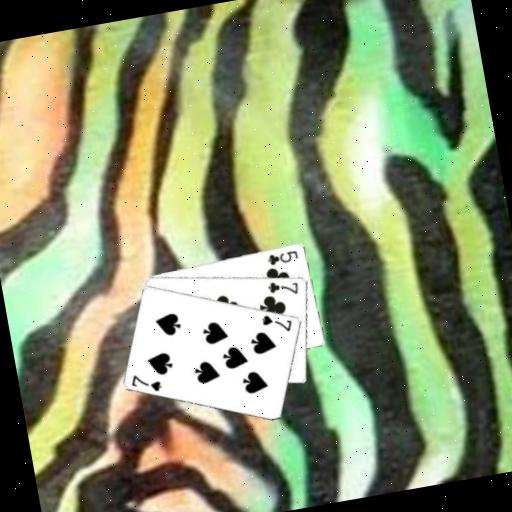5C: (263, 246, 300, 267)
7C: (264, 274, 301, 300)
7S: (258, 307, 296, 337), (127, 367, 164, 396)
